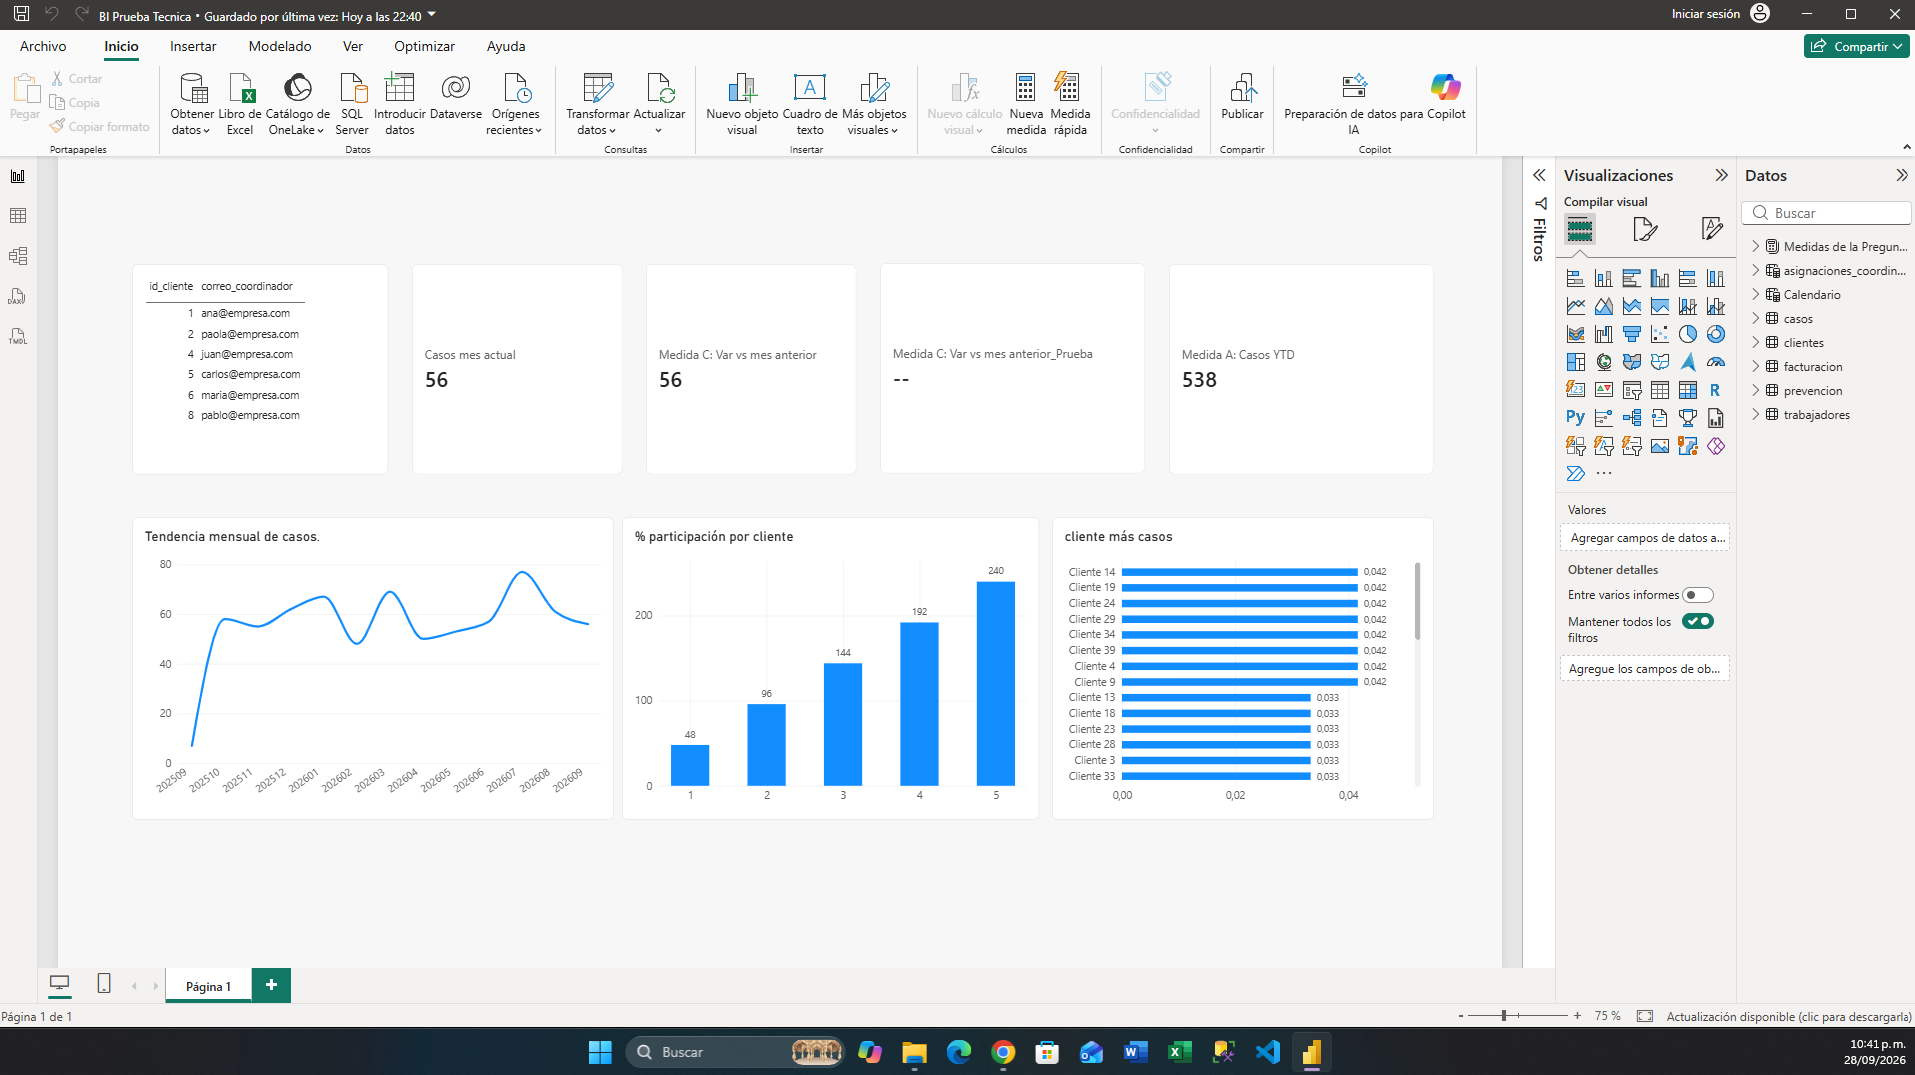

This screenshot's page, from the dashboard's own definition file:
{"tool":"powerbi","page":{"name":"Página 1","canvas":[1920,1080],"ordinal":0},"visuals":[{"type":"cardVisual","fields":{"Data":["Medidas de la Pregunta 1_5.Casos mes actual"]},"box":[470.4,143.1,280,280],"z":0},{"type":"cardVisual","fields":{"Data":["Medidas de la Pregunta 1_5.Medida C: Var vs mes anterior"]},"box":[781.7,143.1,280,280],"z":1},{"type":"cardVisual","fields":{"Data":["Medidas de la Pregunta 1_5.Medida C: Var vs mes anterior_Prueba"]},"box":[1093.1,141.7,352.9,280.4],"z":2},{"type":"cardVisual","fields":{"Data":["Medidas de la Pregunta 1_5.Medida A: Casos YTD"]},"box":[1477.3,143.2,352.9,280.4],"z":3},{"type":"lineChart","title":"Tendencia mensual de casos.","fields":{"Category":["Calendario.AñoMes"],"Y":["Medidas de la Pregunta 1_5.Total casos"]},"box":[98.3,480.6,641.2,402.5],"z":4},{"type":"clusteredColumnChart","title":"% participación por cliente","fields":{"Category":["clientes.clase_riesgo"],"Y":["Medidas de la Pregunta 1_5.Total casos"]},"box":[749.6,480.6,555,402.5],"z":5},{"type":"clusteredBarChart","title":"cliente más casos","fields":{"Category":["clientes.nombre"],"Y":["Medidas de la Pregunta 1_5.Medida B: % participación"]},"box":[1322.1,480.6,507.5,402.5],"z":6},{"type":"tableEx","fields":{"Values":["asignaciones_coordinador.id_cliente","asignaciones_coordinador.correo_coordinador"]},"box":[98,143.1,341,280],"z":7}]}

Visuals, with their boxes on the page's 1920x1080 design canvas (x1, y1, x2, y2). These are canvas units, not pixel positions in the 1915x1075 screenshot, which may show the page scaled, cropped or inside an application window:
cardVisual - Medidas de la Pregunta 1_5.Casos mes actual: bbox=[470, 143, 750, 423]
cardVisual - Medidas de la Pregunta 1_5.Medida C: Var vs mes anterior: bbox=[782, 143, 1062, 423]
cardVisual - Medidas de la Pregunta 1_5.Medida C: Var vs mes anterior_Prueba: bbox=[1093, 142, 1446, 422]
cardVisual - Medidas de la Pregunta 1_5.Medida A: Casos YTD: bbox=[1477, 143, 1830, 424]
"Tendencia mensual de casos." lineChart: bbox=[98, 481, 740, 883]
"% participación por cliente" clusteredColumnChart: bbox=[750, 481, 1305, 883]
"cliente más casos" clusteredBarChart: bbox=[1322, 481, 1830, 883]
tableEx - asignaciones_coordinador.id_cliente x asignaciones_coordinador.correo_coordinador: bbox=[98, 143, 439, 423]
